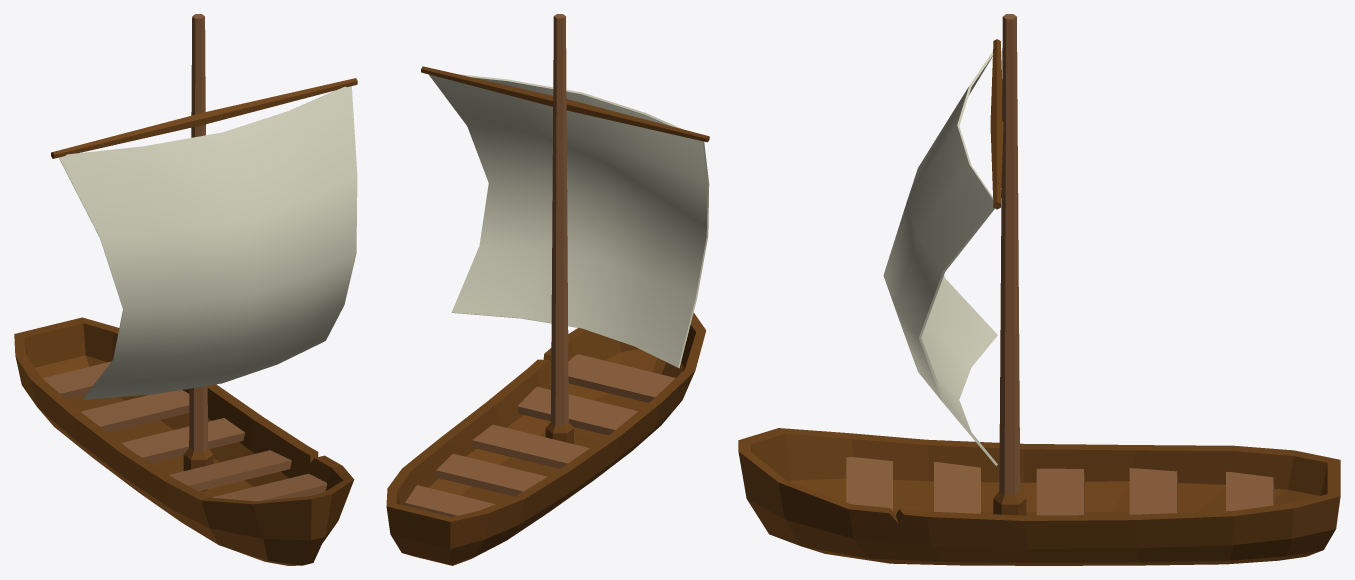
Rendered from SquareSloop.fbx.
The picture shows the model from 3 angles, left to right: view 1: azimuth 30°, elevation 25°; view 2: azimuth 150°, elevation 25°; view 3: azimuth 270°, elevation 25°; orthographic projection. The views are drawn at different scales.
Parts seen in each view (by area): view 1: SquareSloop; view 2: SquareSloop; view 3: SquareSloop.
Boxes of the visible parts, x1=… form: SquareSloop: x1=14, y1=14, x2=357, y2=565; SquareSloop: x1=386, y1=14, x2=709, y2=565; SquareSloop: x1=738, y1=14, x2=1340, y2=565.
Size of the model in its own units: 216 by 327 by 338.
